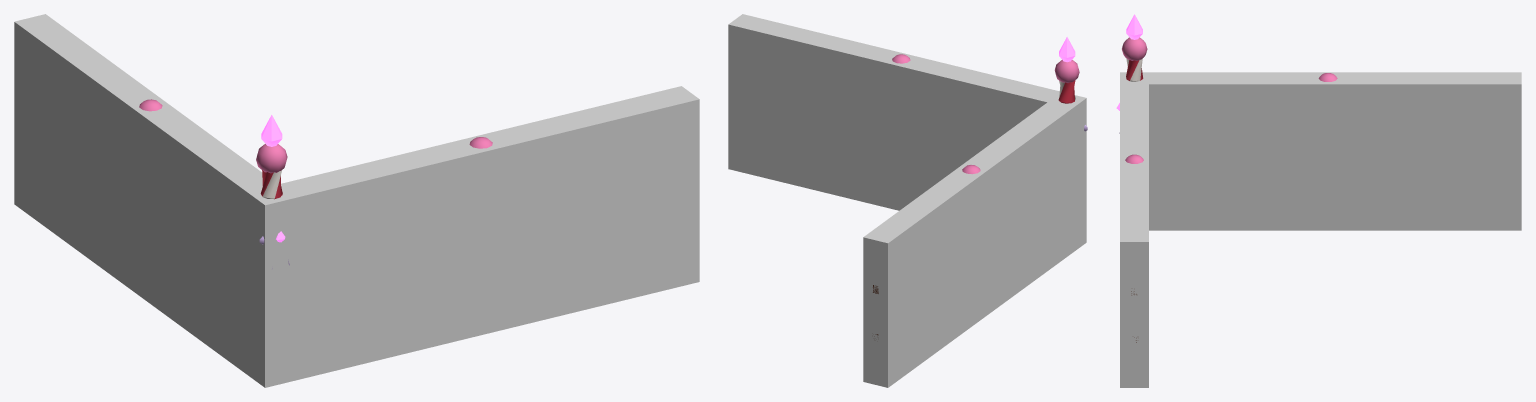
File: Candy_Fence_Corner.fbx
The picture shows the model from 3 angles, left to right: view 1: azimuth 30°, elevation 25°; view 2: azimuth 150°, elevation 25°; view 3: azimuth 270°, elevation 25°; orthographic projection. The views are drawn at different scales.
Visible parts, largest first — view 1: COL_Candy_Fence_Corner_0, COL_Candy_Fence_Corner_1, Candy_Fence_Corner_Posts; view 2: COL_Candy_Fence_Corner_0, COL_Candy_Fence_Corner_1, Candy_Fence_Corner_Posts; view 3: COL_Candy_Fence_Corner_1, COL_Candy_Fence_Corner_0, Candy_Fence_Corner_Posts.
Part boxes in pixels (box(x1,y1,x2,y2)): COL_Candy_Fence_Corner_0: box(247, 86, 699, 387); COL_Candy_Fence_Corner_1: box(14, 14, 296, 387); Candy_Fence_Corner_Posts: box(139, 99, 492, 199); COL_Candy_Fence_Corner_0: box(728, 14, 1086, 252); COL_Candy_Fence_Corner_1: box(863, 99, 1081, 387); Candy_Fence_Corner_Posts: box(892, 54, 1079, 174); COL_Candy_Fence_Corner_1: box(1120, 72, 1521, 230); COL_Candy_Fence_Corner_0: box(1120, 72, 1148, 387); Candy_Fence_Corner_Posts: box(1122, 37, 1337, 163).
Bounding box in the file's own units: 2.51 × 1.44 × 2.51.
